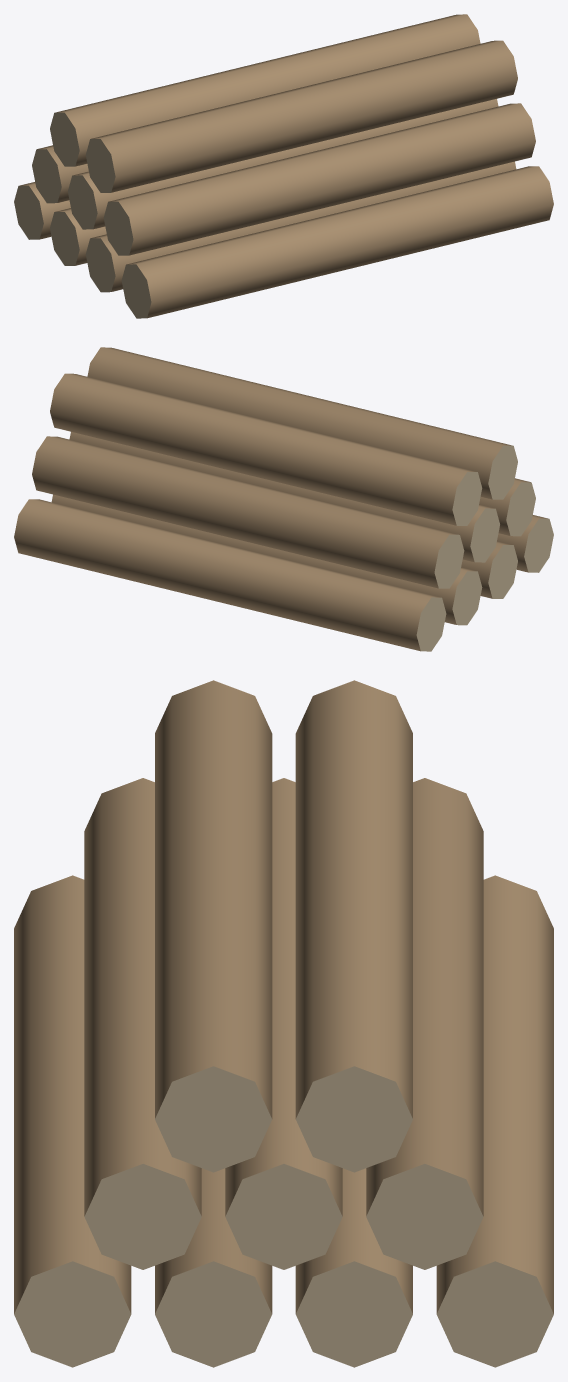
The model's file is woodpile.glb.
3 views of the same model, one above another, from view 1: azimuth 30°, elevation 25°; view 2: azimuth 150°, elevation 25°; view 3: azimuth 270°, elevation 25° (orthographic). The views are drawn at different scales.
Visible parts, largest first — view 1: woodpile; view 2: woodpile; view 3: woodpile.
Boxes of the visible parts, left/top/right/bottom form: woodpile: left=14, top=14, right=553, bottom=318; woodpile: left=14, top=347, right=553, bottom=651; woodpile: left=14, top=680, right=553, bottom=1367.
Bounding box in the file's own units: 2.8 × 1.02 × 1.66.
